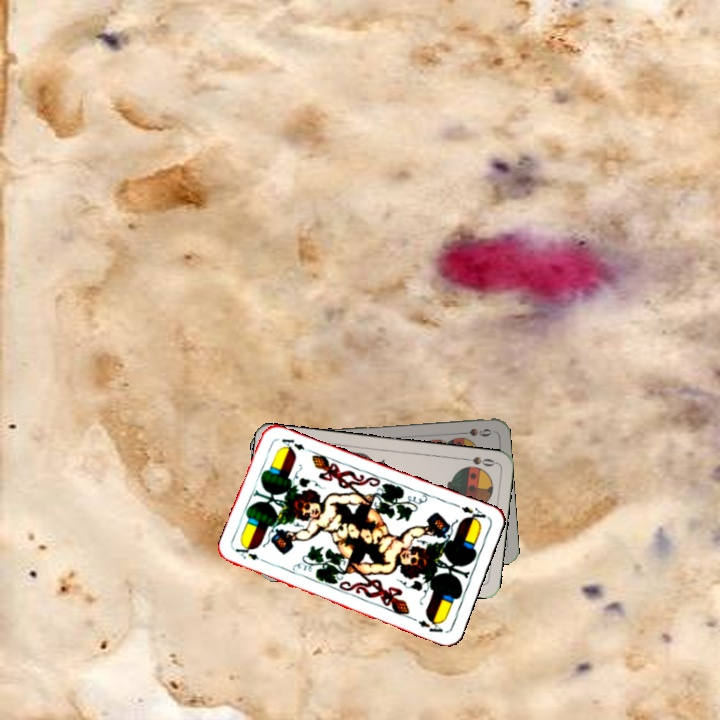EA: (451, 499, 488, 526), (231, 544, 271, 566)
S9: (453, 424, 494, 439)
SO: (457, 452, 498, 469)
